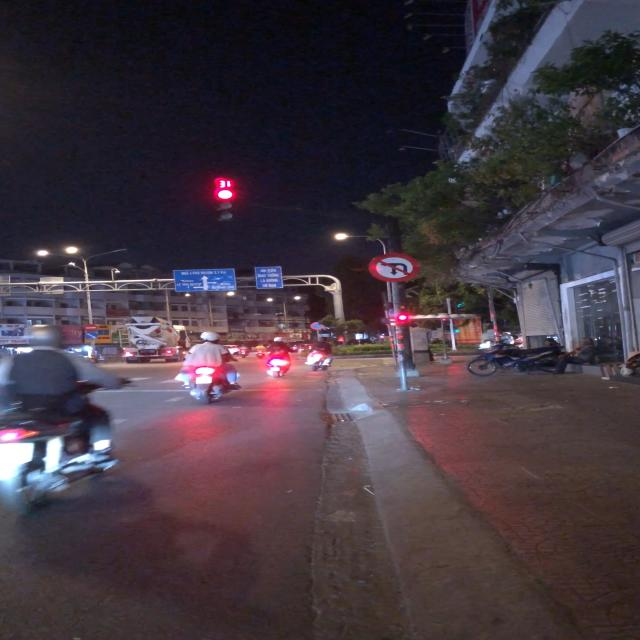Bien bao cam di nguoc chieu: (81, 323, 98, 332)
Bien bao cam re trai va quay dau: (368, 252, 420, 283)
Bien bao huong phai di vong chuong ngai vat: (86, 332, 100, 340)
